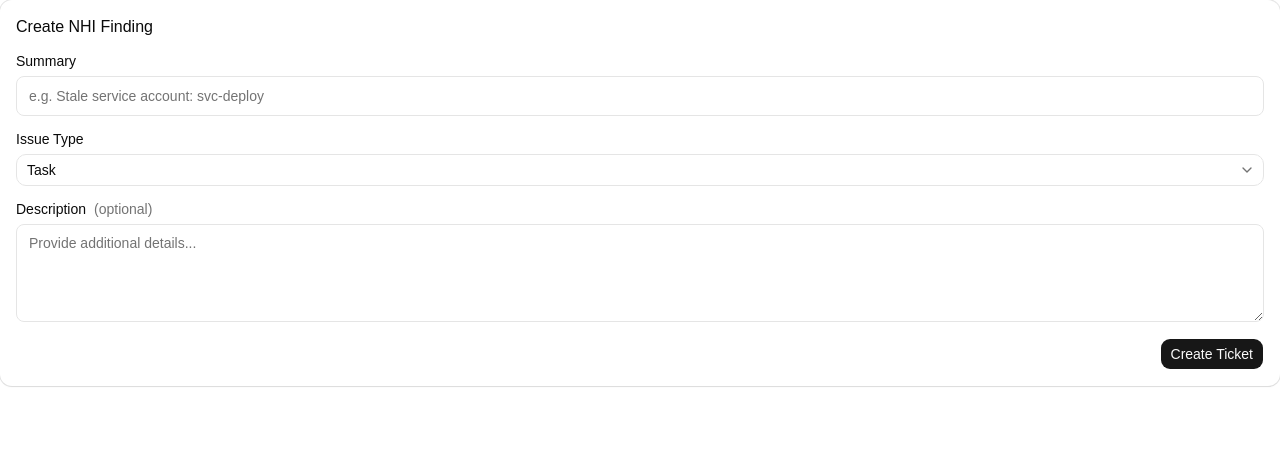
CreateTicketForm › handles JIRA_PROJECT_NOT_FOUND error
Type "Test" into the field labelled "Summary".
click(640, 96); type("Test")  # box [16,76,1264,116]
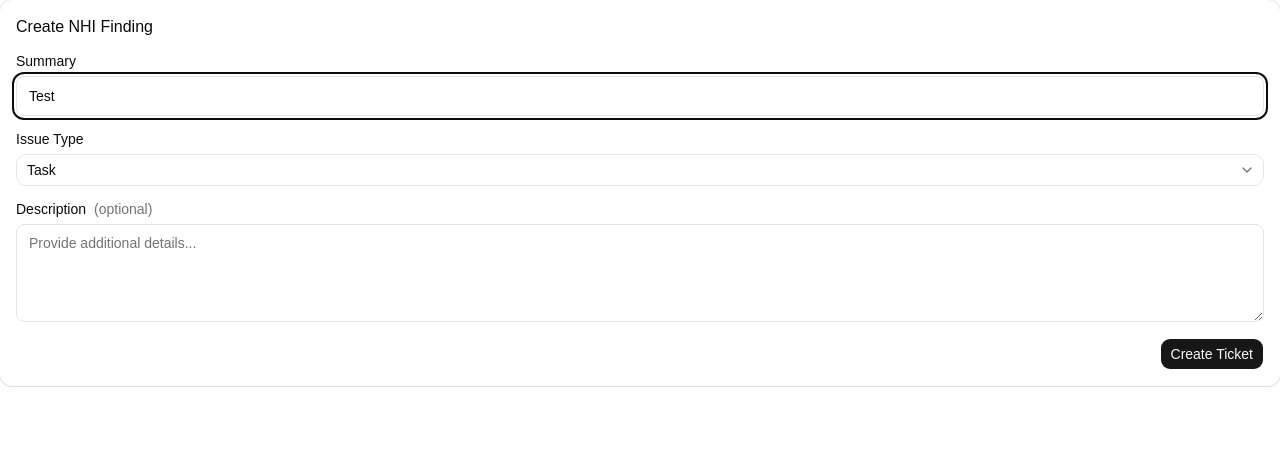
Click the button "Create Ticket".
click(1212, 354)  # box [1160,338,1264,370]
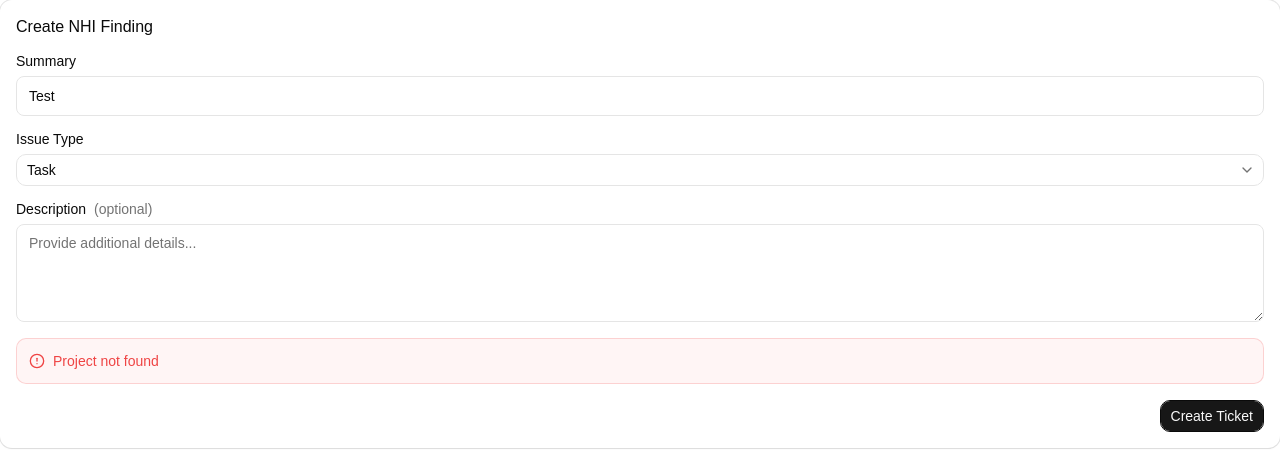
Expected: the text "Project not found" is shown, [16,338,1264,384]
